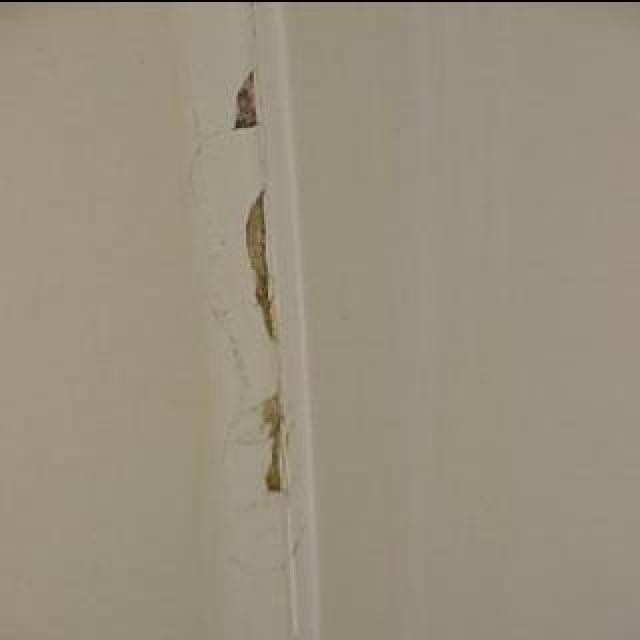crack: (187, 7, 269, 191), (242, 184, 278, 348), (247, 374, 291, 490)
